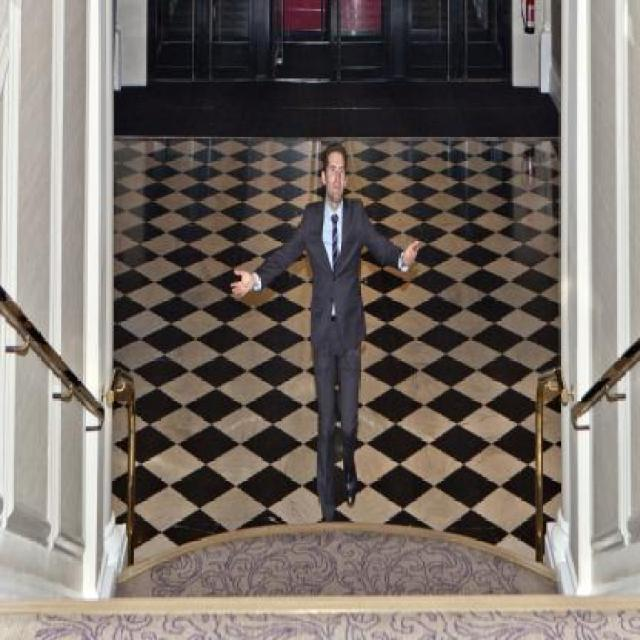stair: (0, 518, 640, 640)
